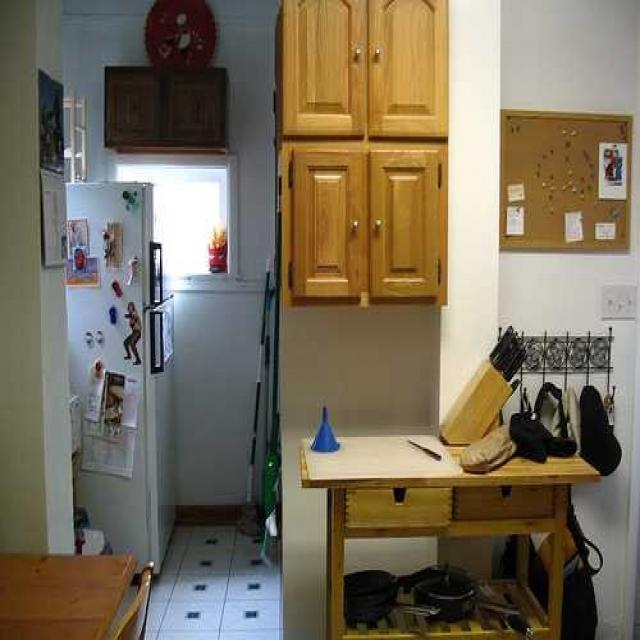refrigerator: (68, 182, 174, 567)
